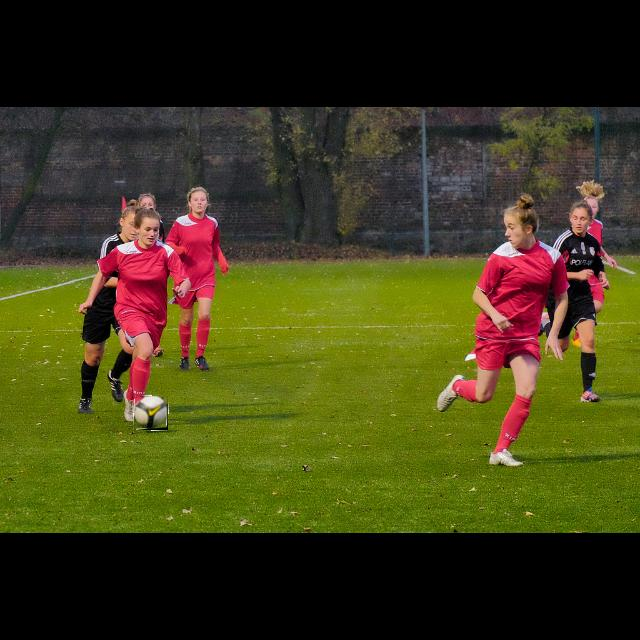Football: (134, 396, 168, 430)
